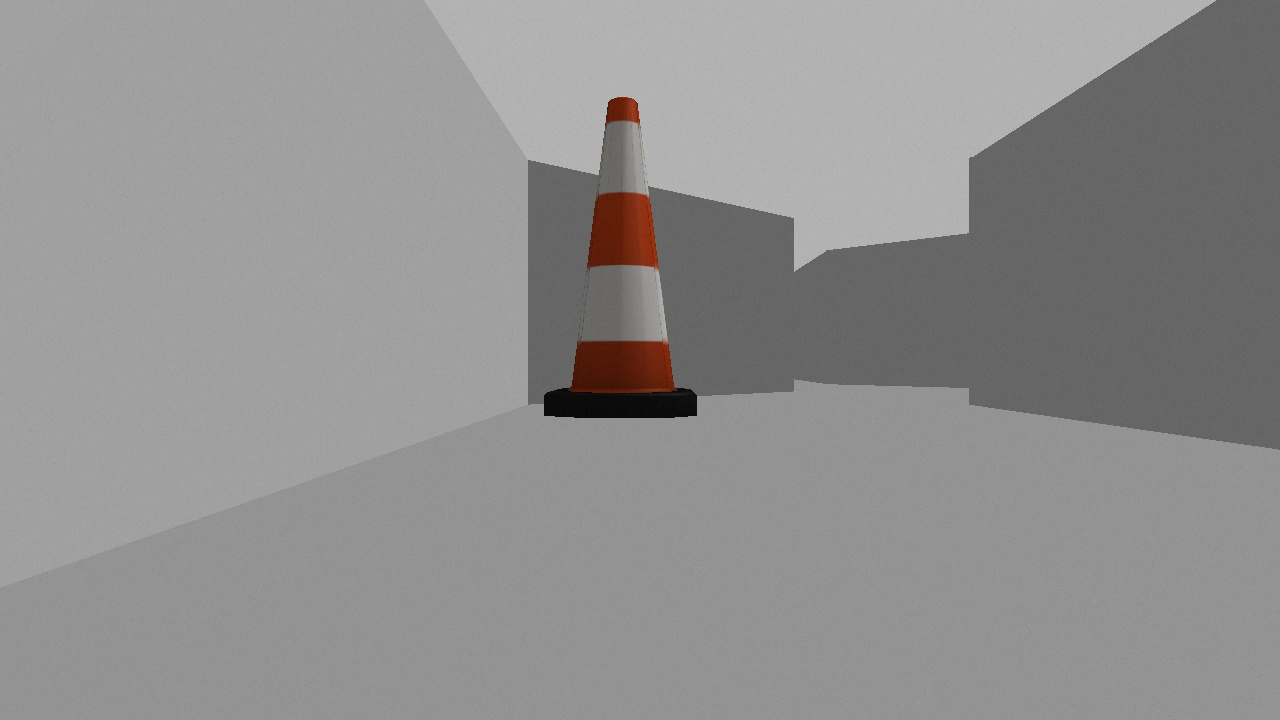barricade: (544, 95, 698, 420)
